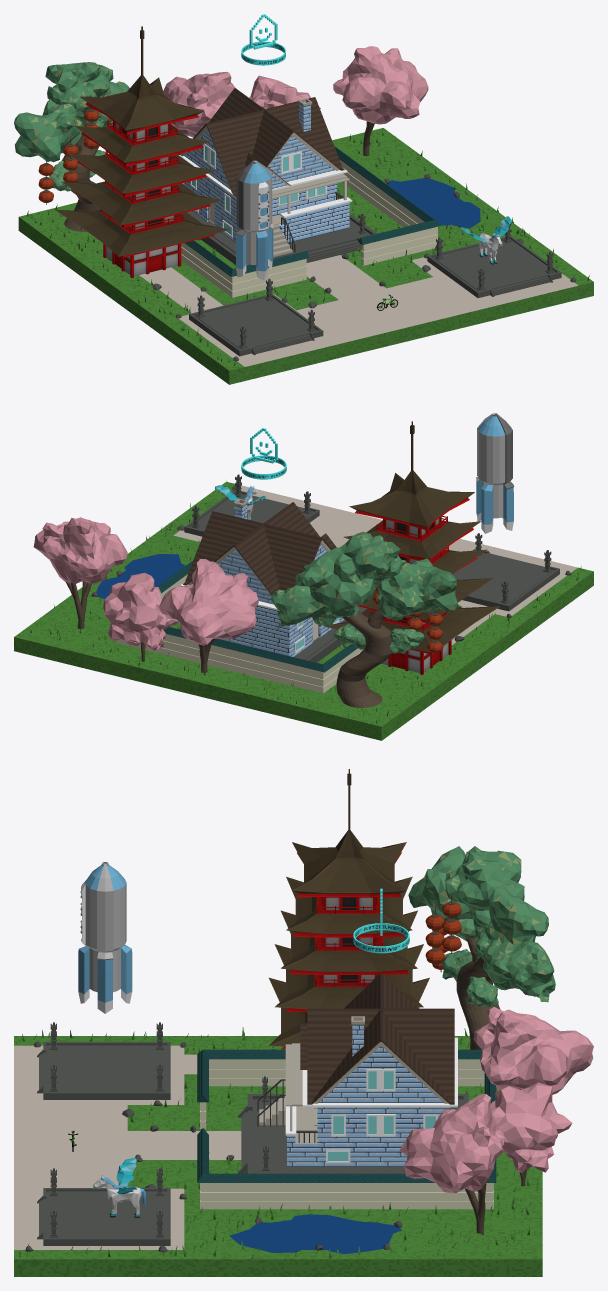
3 views of the same model, one above another, from view 1: azimuth 30°, elevation 25°; view 2: azimuth 150°, elevation 25°; view 3: azimuth 270°, elevation 25° (orthographic). The views are drawn at different scales.
Parts seen in each view (by area): view 1: Cube.005, Cube.547, OBJRANDOM_ROCKETSHIP, TYPE_PREMIUM, ANIMAL_PEGASO; view 2: Cube.005, Cube.547, OBJRANDOM_ROCKETSHIP, TYPE_PREMIUM, ANIMAL_PEGASO; view 3: Cube.005, Cube.547, OBJRANDOM_ROCKETSHIP, ANIMAL_PEGASO, TYPE_PREMIUM.
Part boxes in pixels (x1,y1,x2,y2): Cube.005: (14, 26, 593, 384); Cube.547: (178, 88, 352, 256); OBJRANDOM_ROCKETSHIP: (235, 160, 273, 280); TYPE_PREMIUM: (241, 14, 285, 65); ANIMAL_PEGASO: (460, 216, 511, 264); Cube.005: (14, 421, 593, 740); Cube.547: (180, 499, 344, 656); OBJRANDOM_ROCKETSHIP: (476, 413, 514, 533); TYPE_PREMIUM: (241, 428, 286, 479); ANIMAL_PEGASO: (215, 485, 265, 520); Cube.005: (14, 769, 593, 1276); Cube.547: (257, 973, 457, 1166); OBJRANDOM_ROCKETSHIP: (78, 862, 132, 1013); ANIMAL_PEGASO: (93, 1157, 145, 1217); TYPE_PREMIUM: (353, 888, 409, 953).
Size of the model in its own units: 4528 by 2842 by 4389.
Materials: 43 (7 with a texture image).
